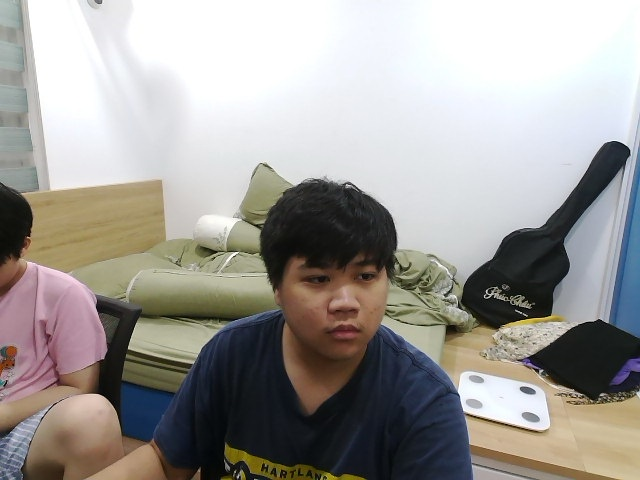face: (257, 179, 399, 362)
